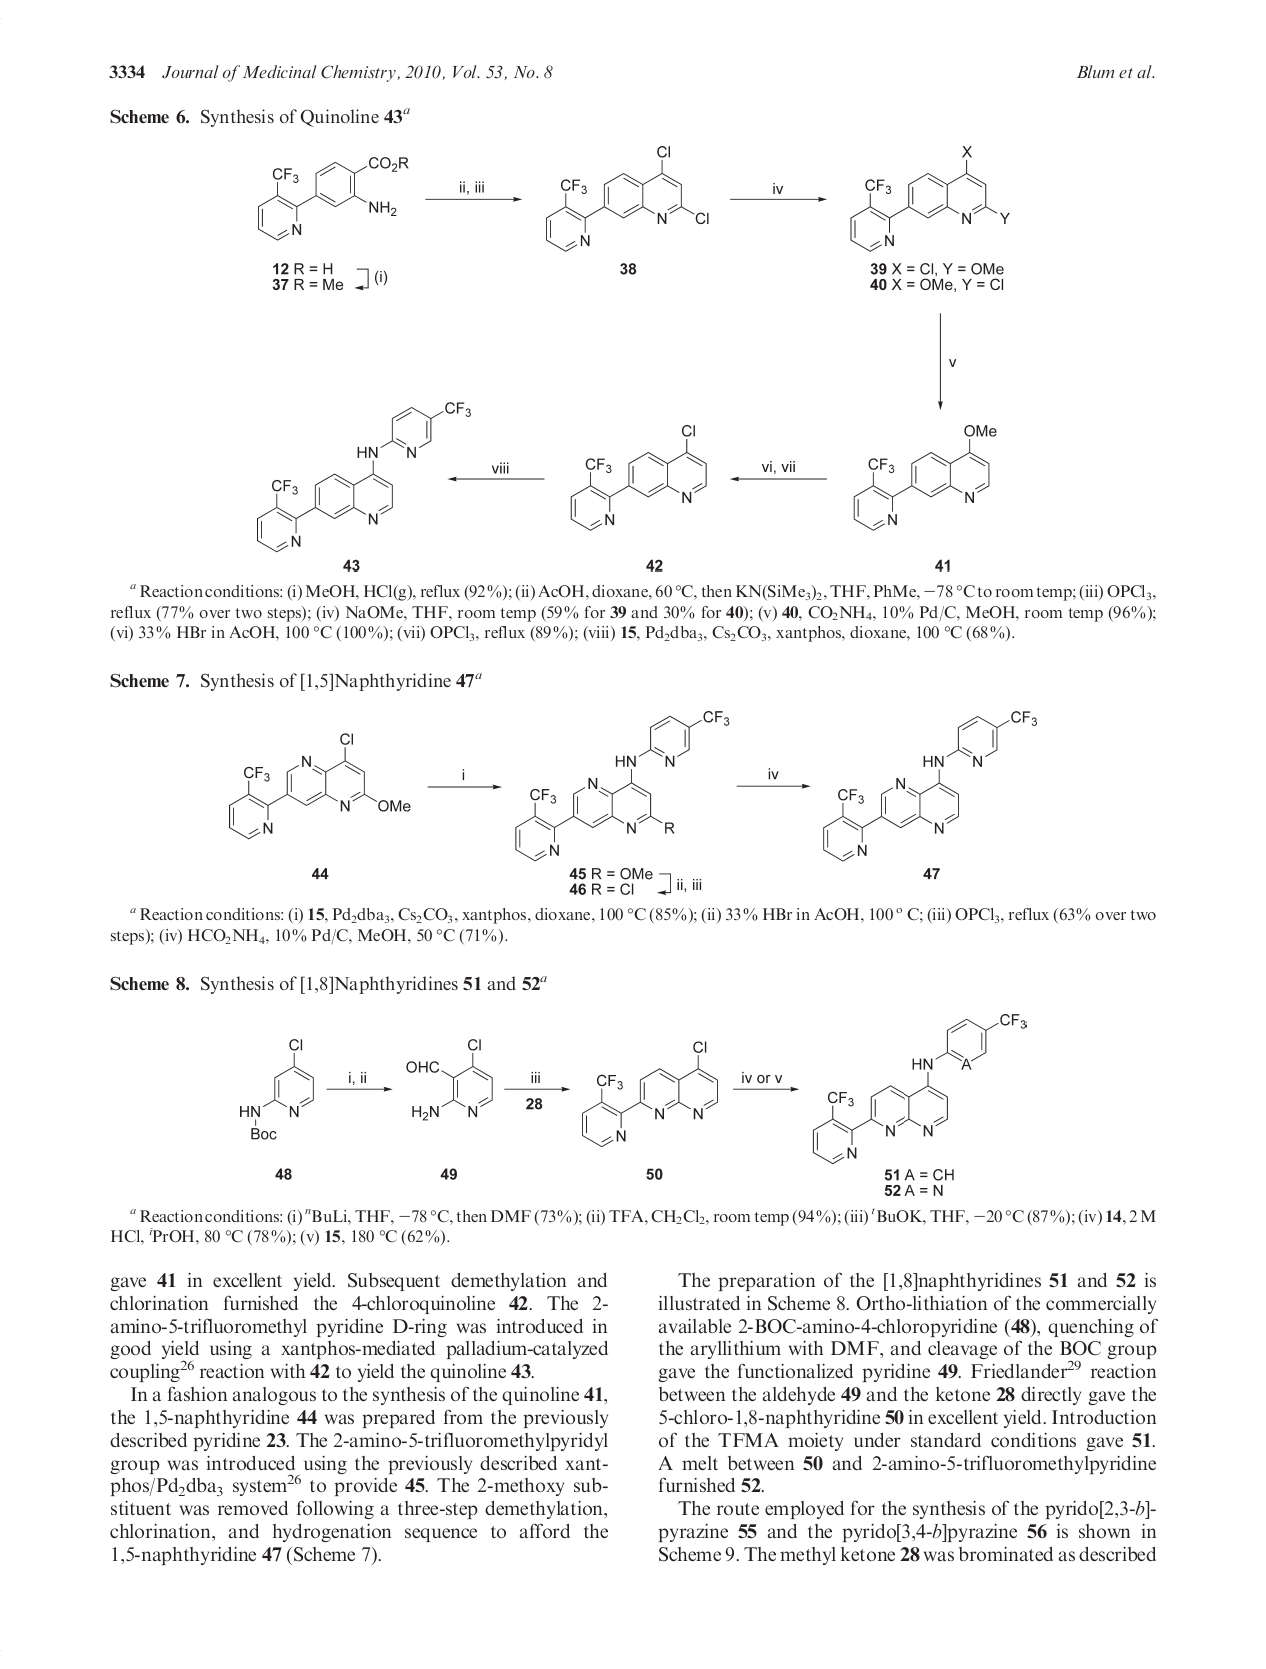exist_molecular: (822, 697, 1047, 867), (807, 1007, 1044, 1168), (253, 390, 471, 559), (511, 702, 731, 864), (219, 721, 416, 844), (544, 144, 713, 263), (843, 142, 1016, 255), (844, 423, 1013, 535), (576, 1032, 723, 1158), (567, 419, 713, 533), (255, 148, 422, 246), (235, 1033, 327, 1150), (402, 1033, 500, 1122)
